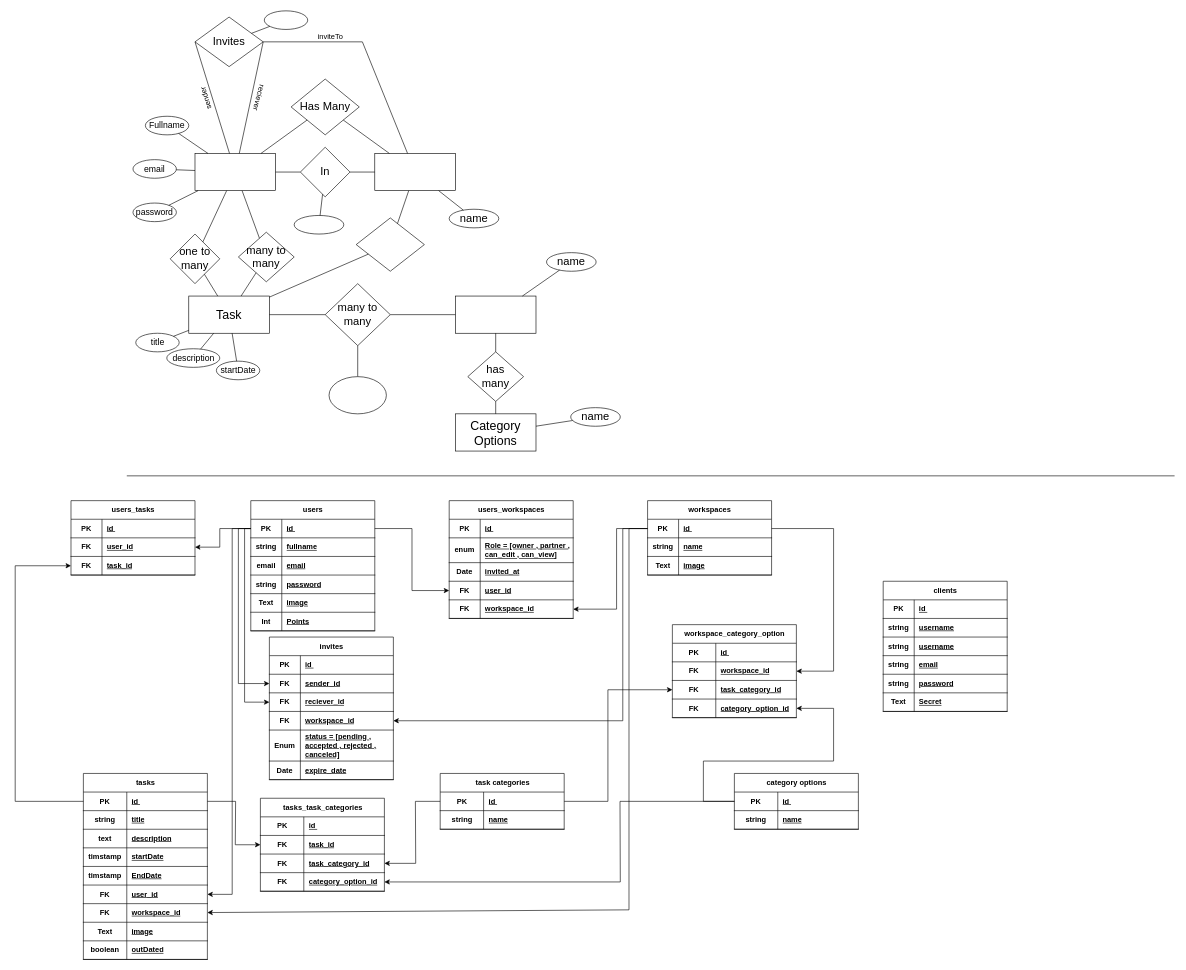
This 1186x970 diagram has some shape labels left out. The shapes that lost their labels are listed below. From the top down, each one's centre as x and y in pixels, then its label:
At point 286,19: "status".
At point 235,172: "User".
At point 414,172: "Workspace".
At point 319,224: "Role".
At point 390,244: "belongs to".
At point 495,314: "Task Category".
At point 357,395: "category option (id)".
